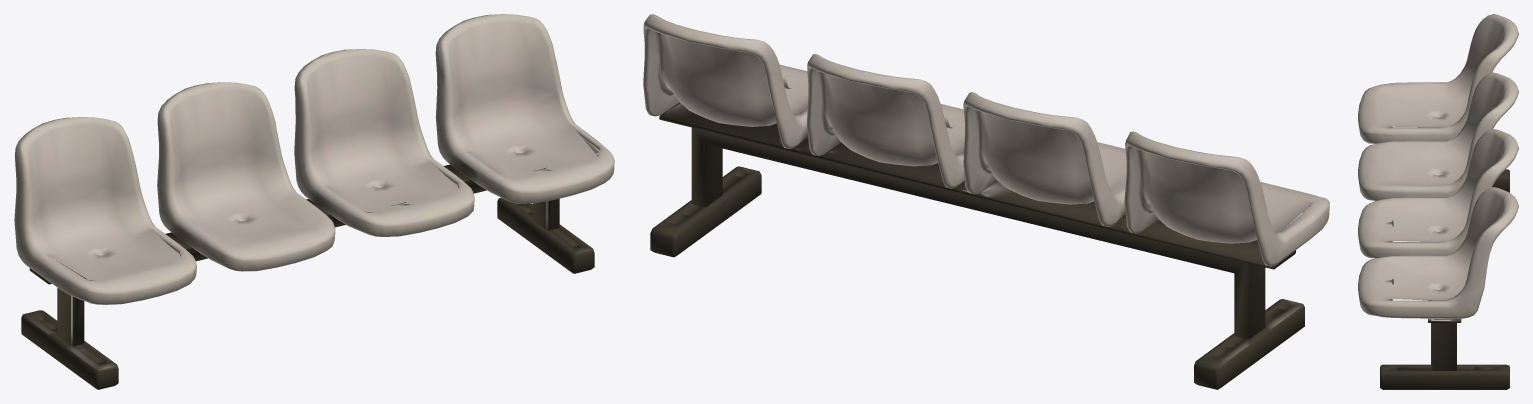
Rendered from a_row_of_stadium_seats_0c9eb514_v1.glb.
The picture shows the model from 3 angles, left to right: view 1: azimuth 30°, elevation 25°; view 2: azimuth 150°, elevation 25°; view 3: azimuth 270°, elevation 25°; orthographic projection. The views are drawn at different scales.
Parts seen in each view (by area): view 1: material; view 2: material; view 3: material.
Boxes of the visible parts, x1,y1,x2,y2 form: material: (14, 14, 614, 389); material: (643, 14, 1329, 389); material: (1358, 14, 1518, 389).
Bounding box in the file's own units: 1.9 × 0.6823 × 0.5752.
1 material, 1 textured.
